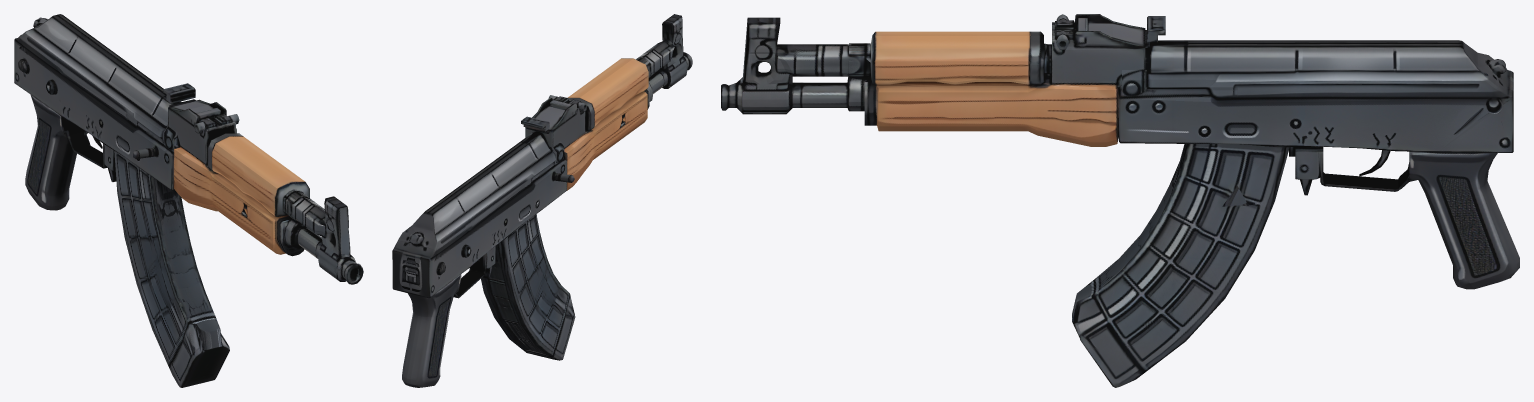
Rendered from gun.glb.
3 views of the same model, side by side, from view 1: azimuth 30°, elevation 25°; view 2: azimuth 150°, elevation 25°; view 3: azimuth 270°, elevation 25° (orthographic). The views are drawn at different scales.
Parts seen in each view (by area): view 1: model; view 2: model; view 3: model.
Boxes of the visible parts, x1=… form: model: x1=14, y1=14, x2=363, y2=387; model: x1=392, y1=14, x2=692, y2=387; model: x1=721, y1=14, x2=1519, y2=387.
Size of the model in its own units: 0.2415 by 0.9352 by 1.9.
1 material, 1 textured.
